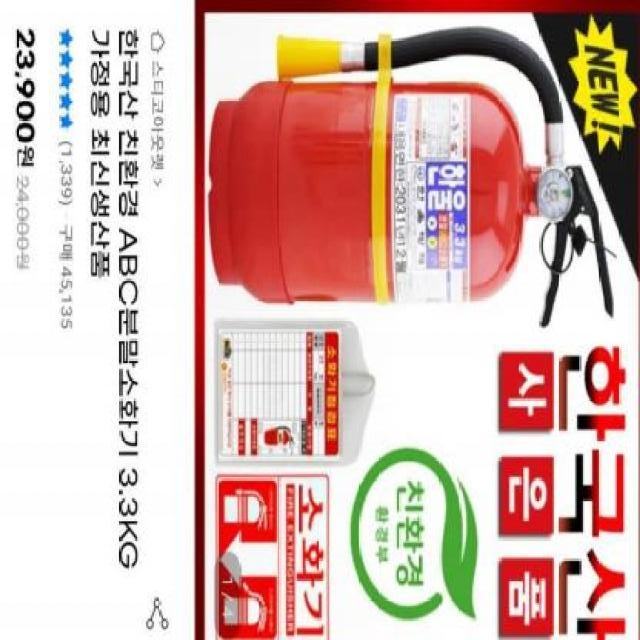fire extinguisher: (208, 24, 614, 328)
